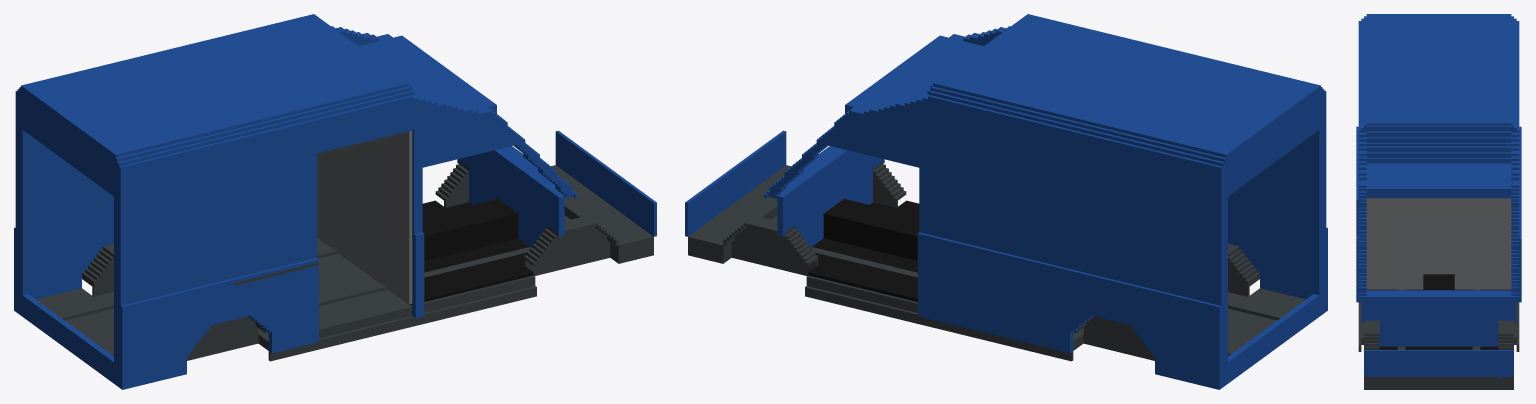
File: high_roof_van_shell.glb
3 renders of one model, left to right at view 1: azimuth 30°, elevation 25°; view 2: azimuth 150°, elevation 25°; view 3: azimuth 270°, elevation 25°, orthographic. The views are drawn at different scales.
Visible parts, largest first — view 1: body:compound; view 2: body:compound; view 3: body:compound.
Boxes of the visible parts, x1,y1,x2,y2 form: body:compound: [14, 14, 656, 389]; body:compound: [685, 14, 1327, 389]; body:compound: [1356, 14, 1521, 389].
Size of the model in its own units: 5.75 by 2.44 by 2.
